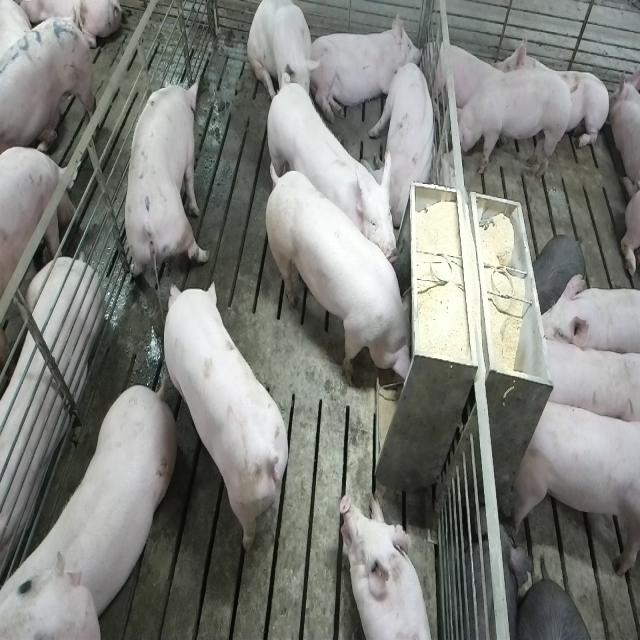Feeding: (269, 163, 422, 391)
Lateral_lying: (0, 139, 101, 592)
Sitting: (374, 60, 440, 220), (247, 2, 321, 122)
Standing: (5, 375, 181, 631), (163, 282, 294, 557), (263, 76, 398, 270), (509, 392, 638, 580), (122, 73, 208, 294), (0, 10, 93, 172), (448, 70, 577, 177), (537, 329, 637, 429), (536, 276, 640, 358)
Sternal_lying: (342, 490, 437, 640), (496, 30, 608, 157), (309, 12, 424, 129), (428, 35, 502, 118)
